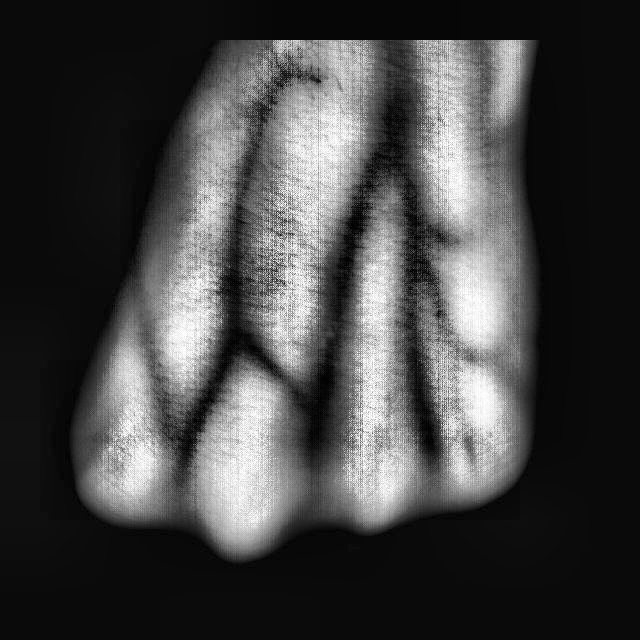Vein: (313, 166, 387, 377), (217, 124, 271, 310), (395, 176, 430, 384)
